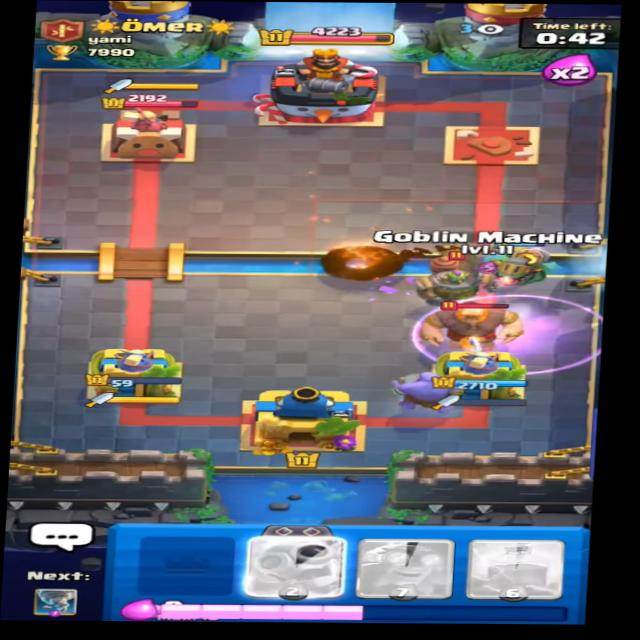evo-zap: (410, 290, 601, 376)
giant: (421, 294, 526, 352)
goblin-machine: (399, 255, 510, 303)
